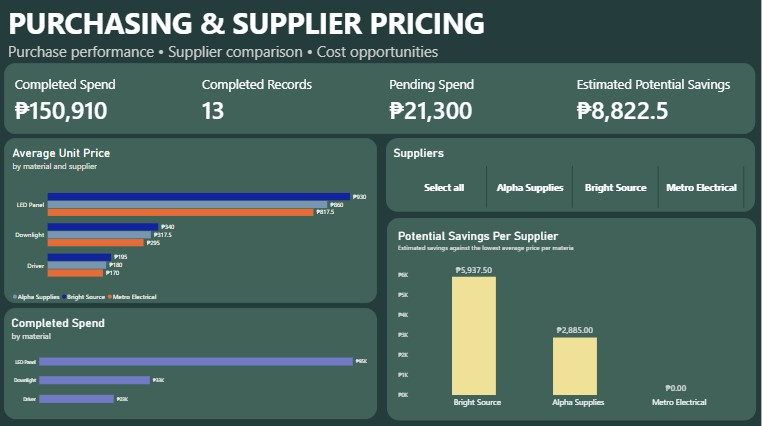

What the dashboard file says about the page in this screenshot:
{"tool":"powerbi","page":{"name":"Page 1","canvas":[1920,1080],"ordinal":0},"visuals":[{"type":"cardVisual","fields":{"Data":["purchases.Completed Spend","purchases.Completed Records","purchases.Pending Spend","purchases.Estimated Potential Savings"]},"box":[12.9,162.9,1892.9,178.6],"z":0},{"type":"textbox","box":[22.7,13.6,1867.3,170],"z":1000},{"type":"clusteredBarChart","title":"Average Unit Price","fields":{"Category":["purchases.material"],"Series":["purchases.supplier"],"Y":["purchases.Average Unit Price"]},"box":[12,352,940,416],"z":2000},{"type":"barChart","fields":{"Category":["purchases.material"],"Y":["purchases.Completed Spend"]},"box":[12,782,940,280],"z":3000},{"type":"slicer","title":"Suppliers","fields":{"Values":["purchases.supplier"]},"box":[976,354,930,186],"z":4000},{"type":"columnChart","title":"Potential Savings Per Supplier","fields":{"Category":["purchases.supplier"],"Y":["purchases.Estimated Potential Savings"]},"box":[976.7,553.3,930,510],"z":5000}]}

Visuals, with their boxes in screenshot pixels (x1, y1, x2, y2), scaled from the page's 1920x1080 canvas onto the 762x426 screenshot:
cardVisual - purchases.Completed Spend x purchases.Completed Records: BBox(5, 64, 756, 135)
textbox: BBox(9, 5, 750, 72)
"Average Unit Price" clusteredBarChart: BBox(5, 139, 378, 303)
barChart - purchases.material x purchases.Completed Spend: BBox(5, 308, 378, 419)
"Suppliers" slicer: BBox(387, 140, 756, 213)
"Potential Savings Per Supplier" columnChart: BBox(388, 218, 757, 419)
